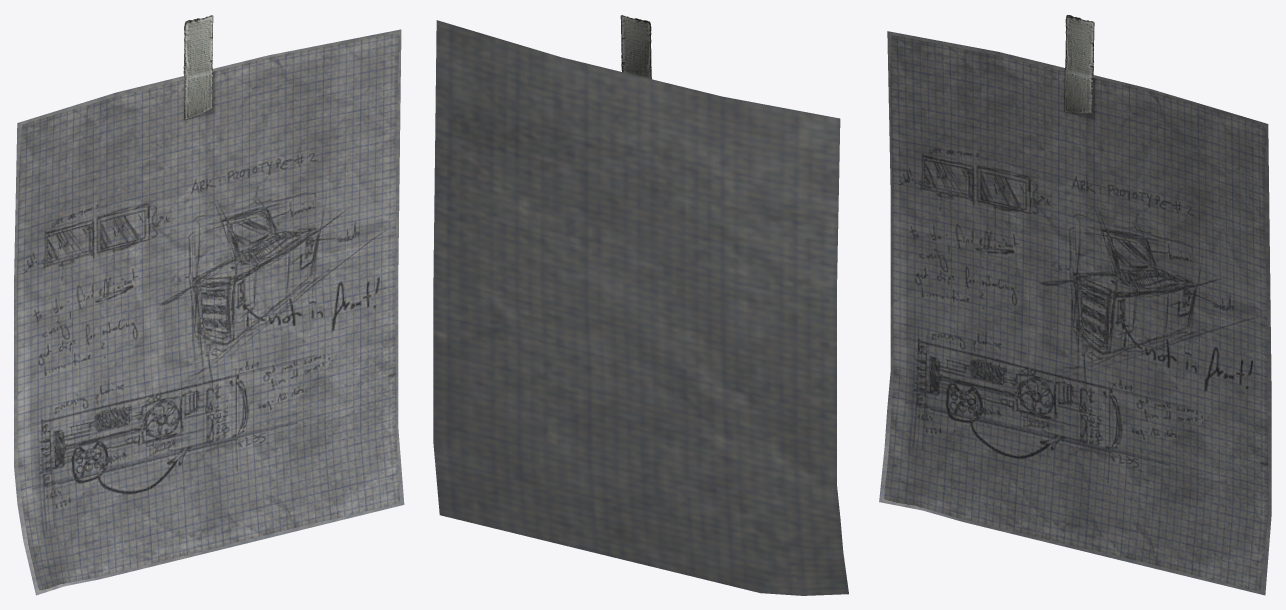
Rendered from 02_05_ark_sketch02.dae.
The picture shows the model from 3 angles, left to right: view 1: azimuth 30°, elevation 25°; view 2: azimuth 150°, elevation 25°; view 3: azimuth 330°, elevation 25°; orthographic projection. The views are drawn at different scales.
Visible parts, largest first — view 1: ark_sketch02, ark_sketch02_tape; view 2: ark_sketch02, ark_sketch02_tape; view 3: ark_sketch02, ark_sketch02_tape.
Boxes of the visible parts, <box> form: ark_sketch02: <box>14,29,404,595</box>; ark_sketch02_tape: <box>183,15,213,119</box>; ark_sketch02: <box>433,20,848,595</box>; ark_sketch02_tape: <box>620,15,651,79</box>; ark_sketch02: <box>879,31,1271,595</box>; ark_sketch02_tape: <box>1064,15,1094,114</box>.
Bounding box in the file's own units: 0.6408 × 0.8416 × 0.0601.
